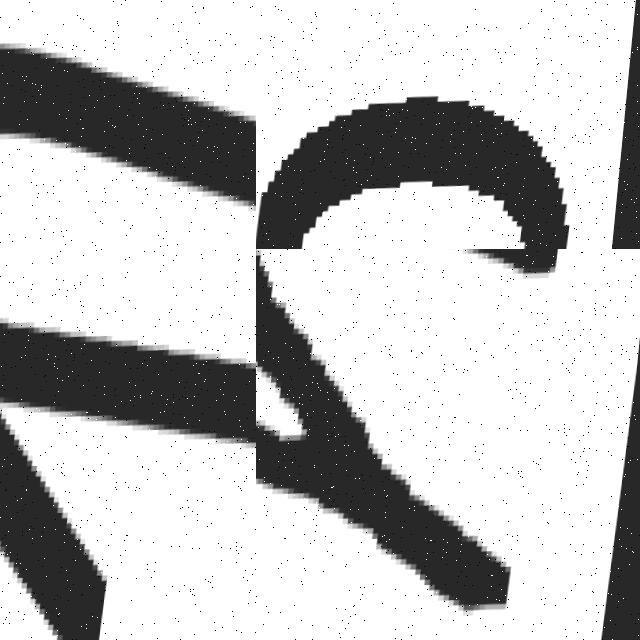9: (256, 70, 601, 249)
K: (0, 249, 256, 640)
U: (256, 249, 589, 640), (0, 16, 256, 249)
